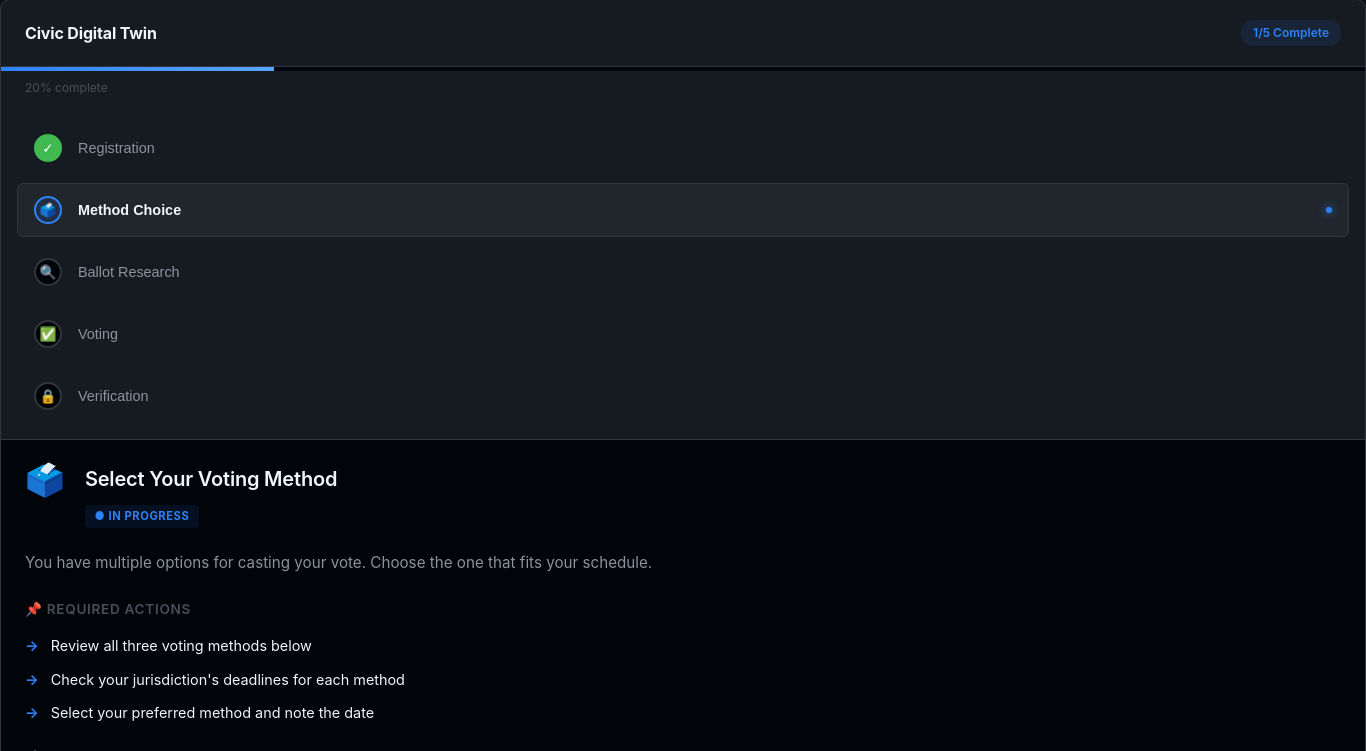
Test: FAQ Accordion › clicking a FAQ question reveals the answer
This screenshot has width=1366, height=751.
Click the button "✓ Registration" at (116, 148), box [17, 121, 1349, 175]
(page scrolled)
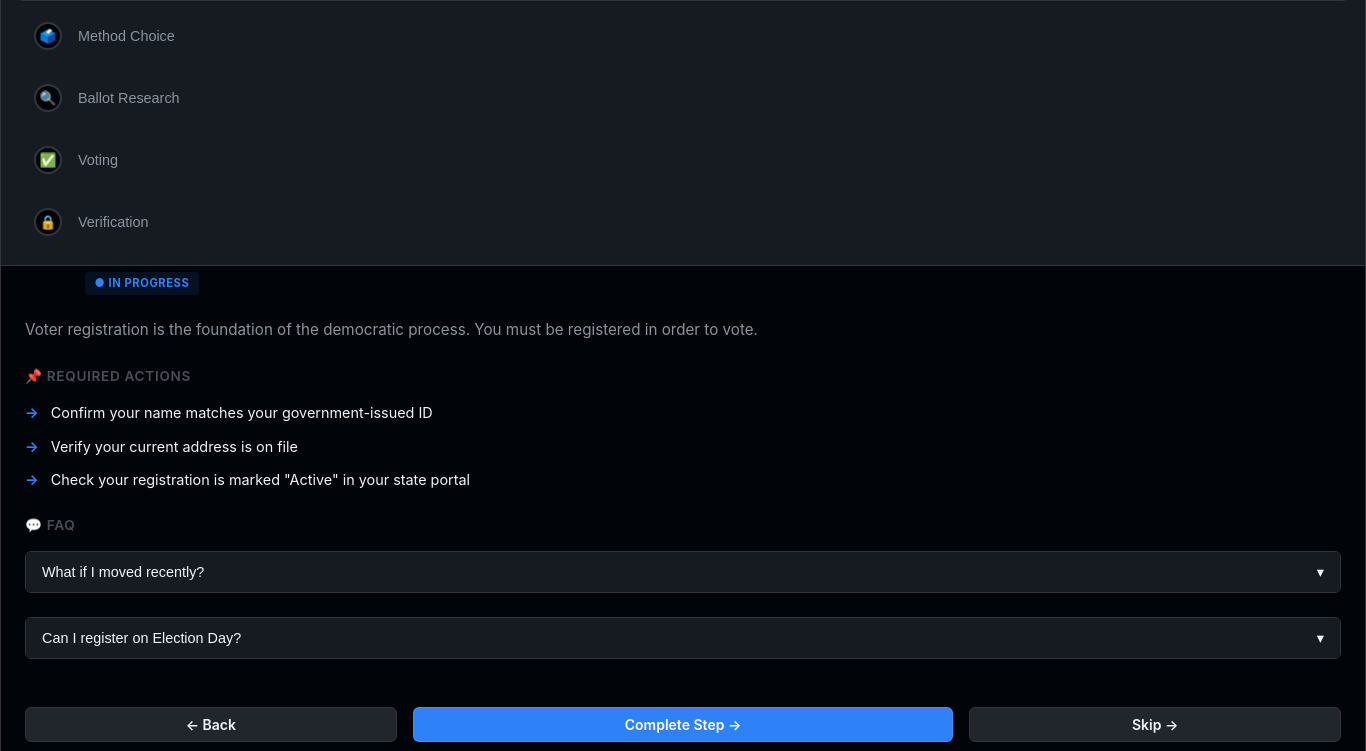
Click the button "What if I moved recently? ▾" at (123, 572), box [26, 552, 1340, 592]
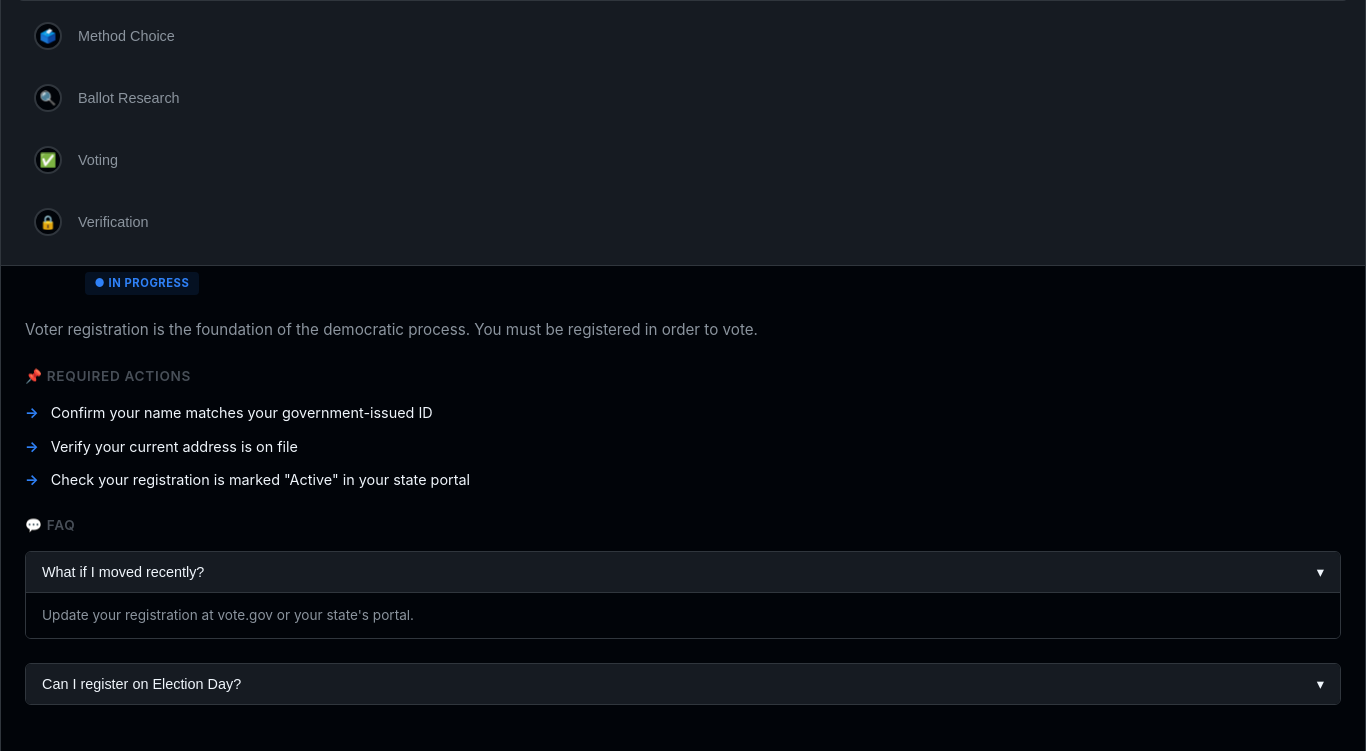
Now the text "Update your registration at vote.gov or your state's portal." is shown, box [26, 592, 1340, 638]
